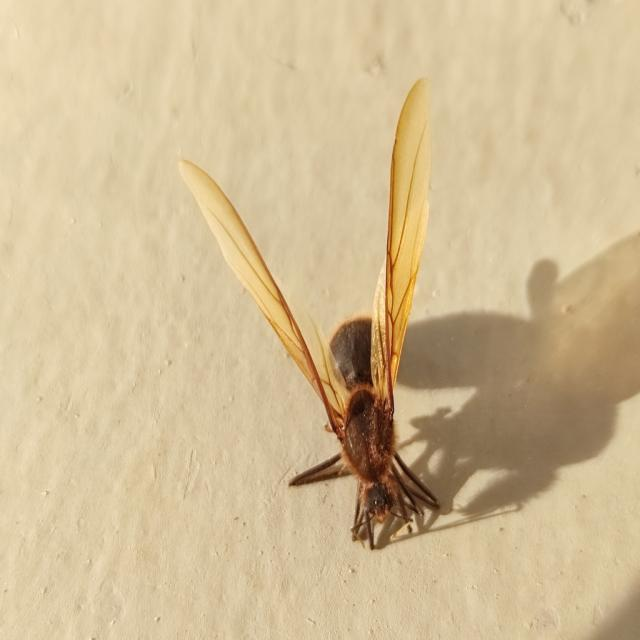Alive-Male-Alate: (178, 78, 442, 551)
